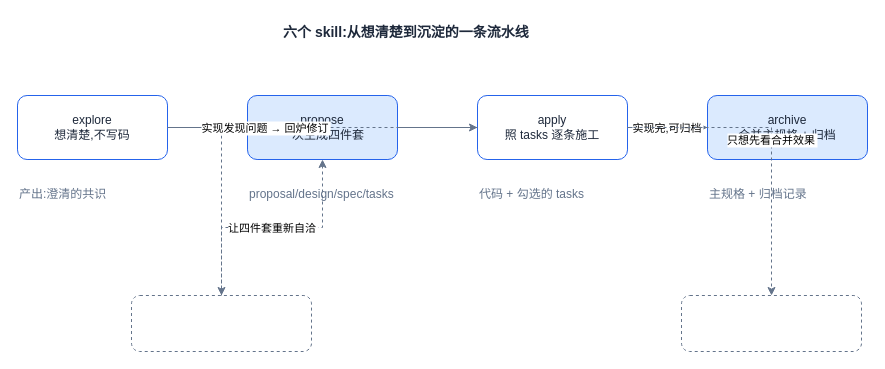
Image size: 885x369. Some labels were removed from this diagram. Each missing label, with the centre of its shape:
"sync 只合并主规格" goes at pixel 771 323.
"update 修订既有计划" goes at pixel 221 323.
